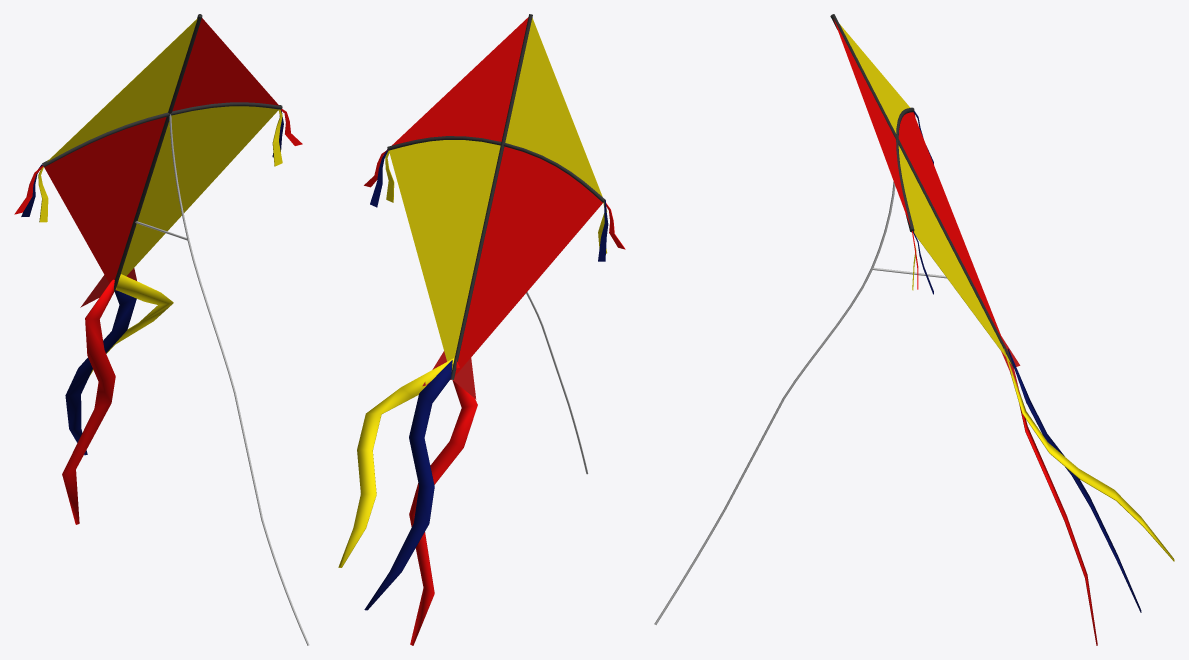
The model's file is K_Kite.FBX.
3 renders of one model, left to right at view 1: azimuth 30°, elevation 25°; view 2: azimuth 150°, elevation 25°; view 3: azimuth 270°, elevation 25°, orthographic. The views are drawn at different scales.
Parts seen in each view (by area): view 1: Line002, Object008, Plane003, Line005, Object009; view 2: Line002, Plane003, Object009, Object008, Line003, Line005; view 3: Line002, Line005, Object009, Plane003, Object008.
Boxes of the visible parts, x1,y1,x2,y2 form: Line002: [42, 14, 282, 291]; Object008: [62, 279, 115, 524]; Plane003: [65, 290, 136, 455]; Line005: [135, 114, 309, 645]; Object009: [89, 274, 173, 376]; Line002: [387, 14, 605, 379]; Plane003: [364, 360, 452, 610]; Object009: [338, 358, 453, 567]; Object008: [409, 360, 477, 645]; Line003: [422, 351, 476, 399]; Line005: [526, 292, 588, 474]; Line002: [830, 14, 1014, 368]; Line005: [654, 181, 946, 624]; Object009: [1003, 349, 1174, 561]; Plane003: [1007, 348, 1141, 612]; Object008: [1019, 405, 1097, 645].
Size of the model in its own units: 14.54 by 29.11 by 21.82.
